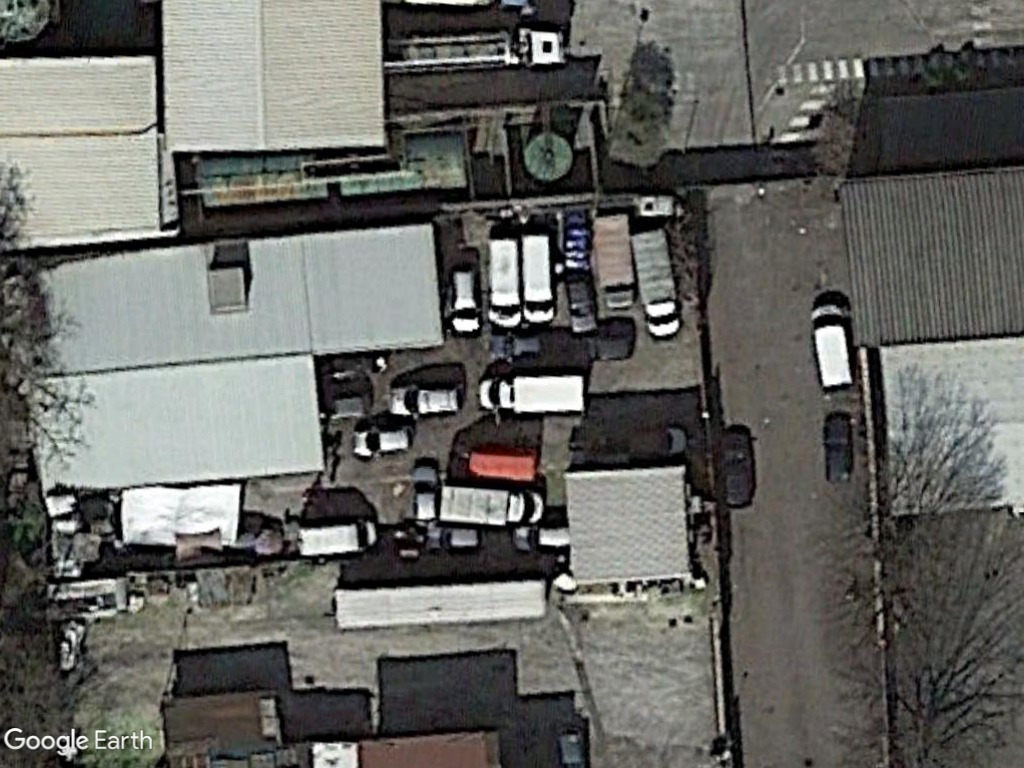car: (387, 380, 470, 418), (349, 422, 416, 459), (407, 464, 442, 534)
truck: (627, 229, 687, 342), (584, 212, 641, 315)
van: (473, 370, 592, 420), (804, 296, 861, 397), (435, 482, 549, 528), (480, 234, 525, 331), (519, 227, 555, 328), (292, 520, 382, 560)
